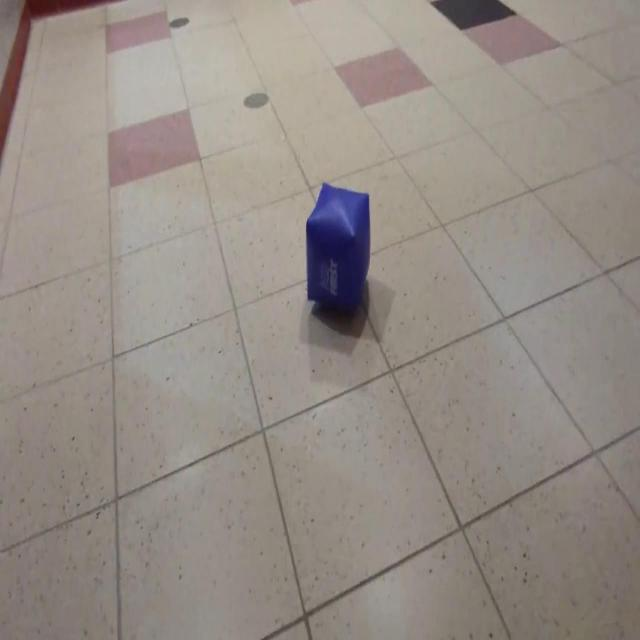frc_cube: (306, 183, 371, 322)
